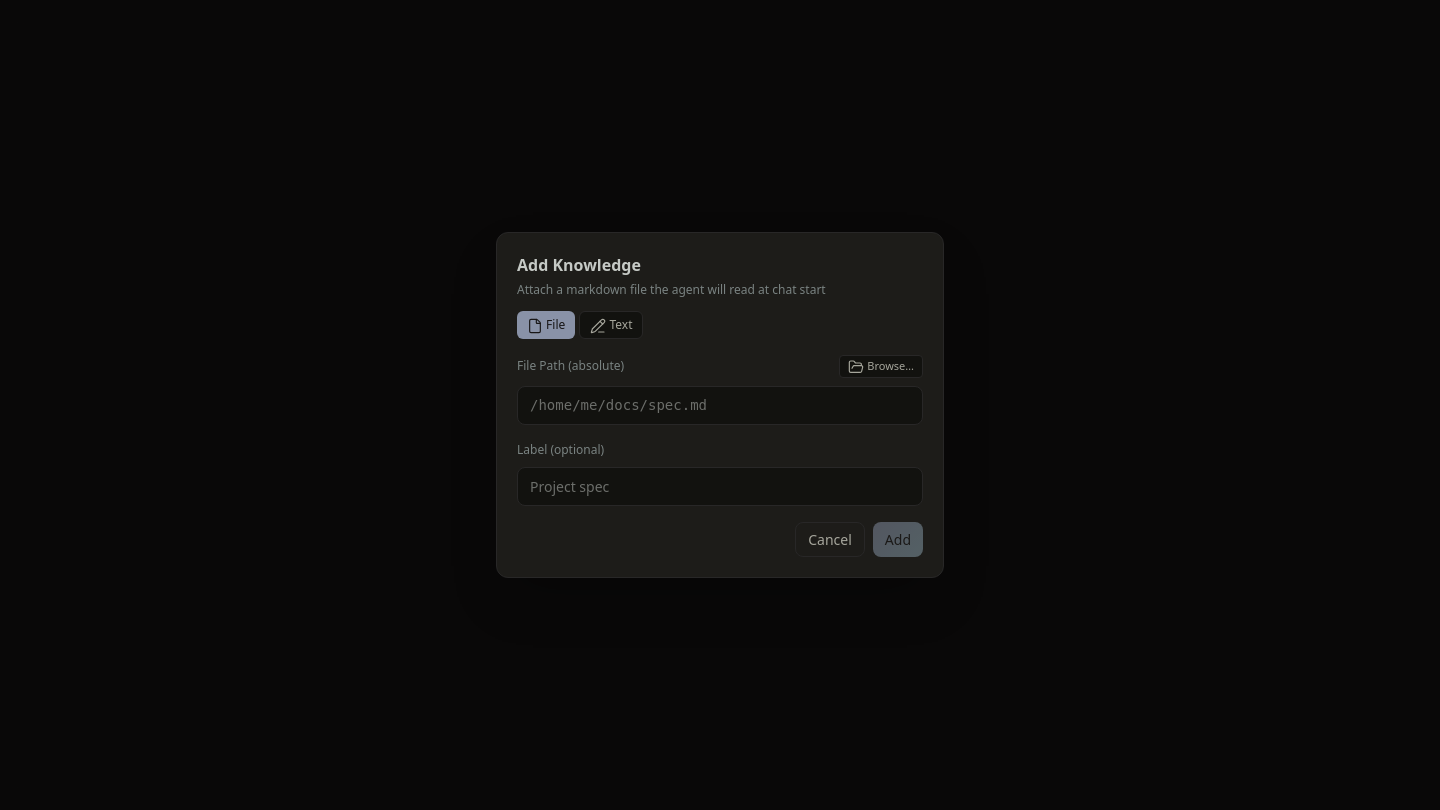
Test: AgentKnowledgeDialog text mode › text mode: submit disabled until content is non-empty
The width and height of the screenshot is (1440, 810).
Click the tab with test id "agent-knowledge-mode-text" at (611, 325), box [579, 311, 644, 339]
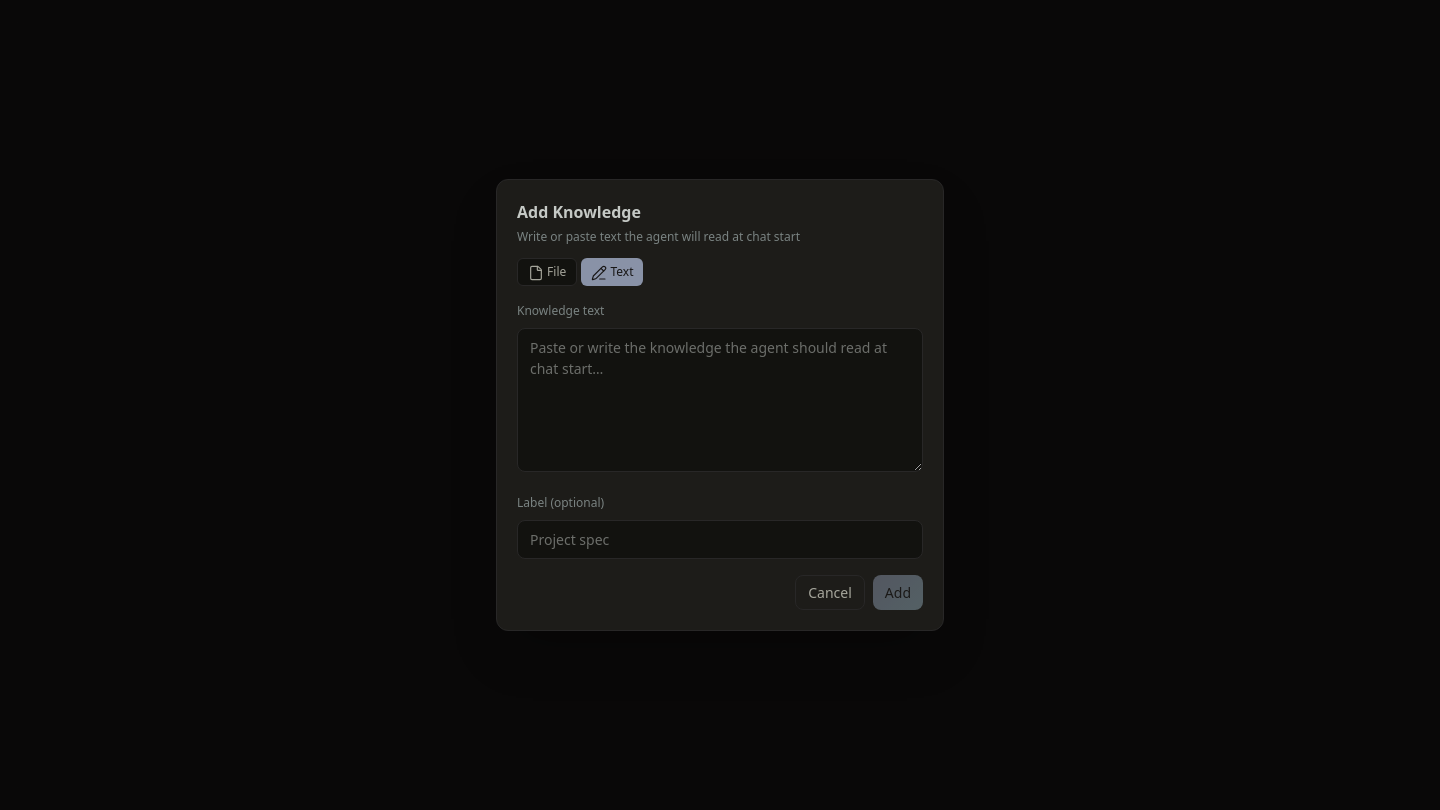
Expected: the button with test id "agent-knowledge-submit" is disabled, [873, 575, 923, 610]
Replace the text in the text box with test id "agent-knowledge-content" with "some manual text" at (720, 400), box [517, 328, 923, 472]
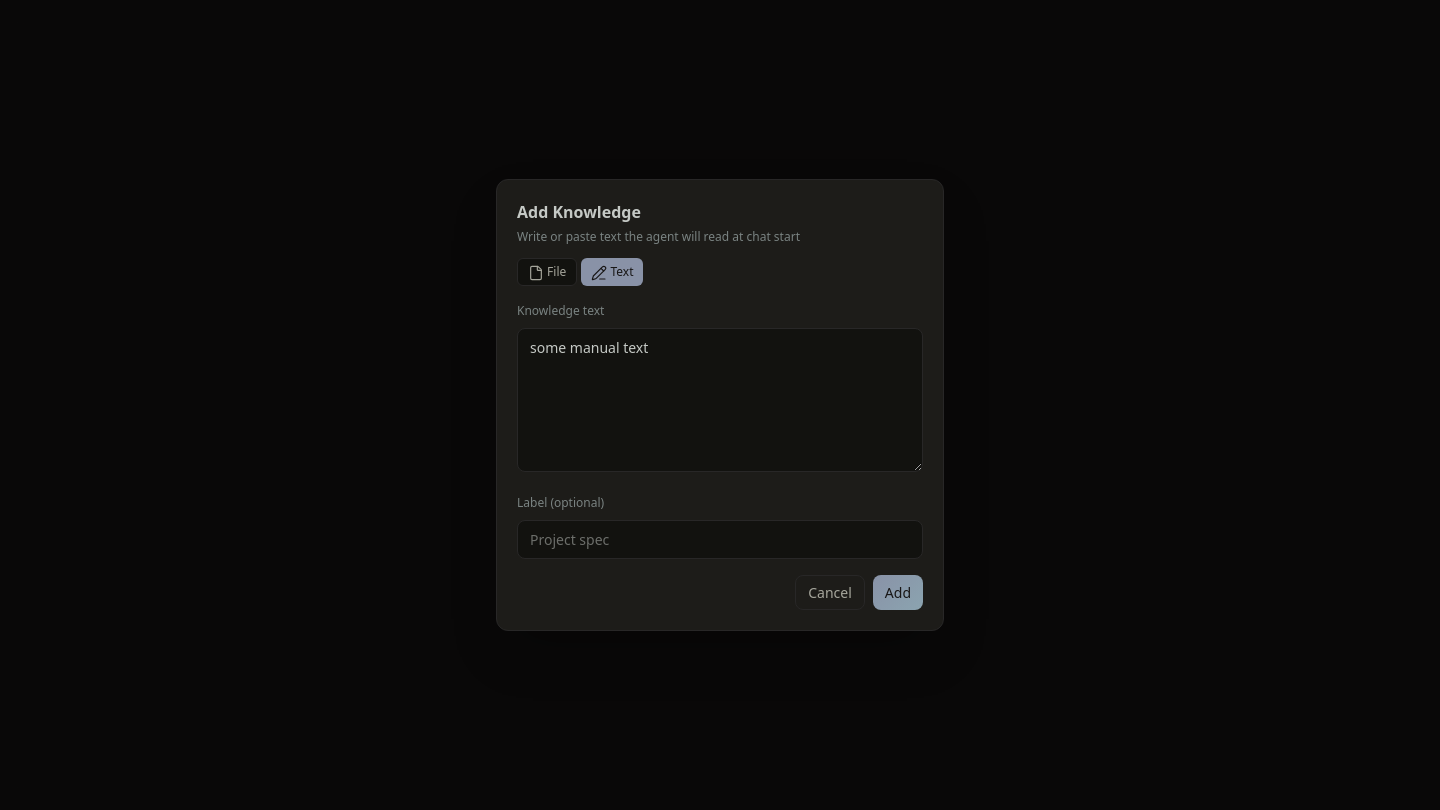
Expected: the button with test id "agent-knowledge-submit" is enabled, [873, 575, 923, 610]
